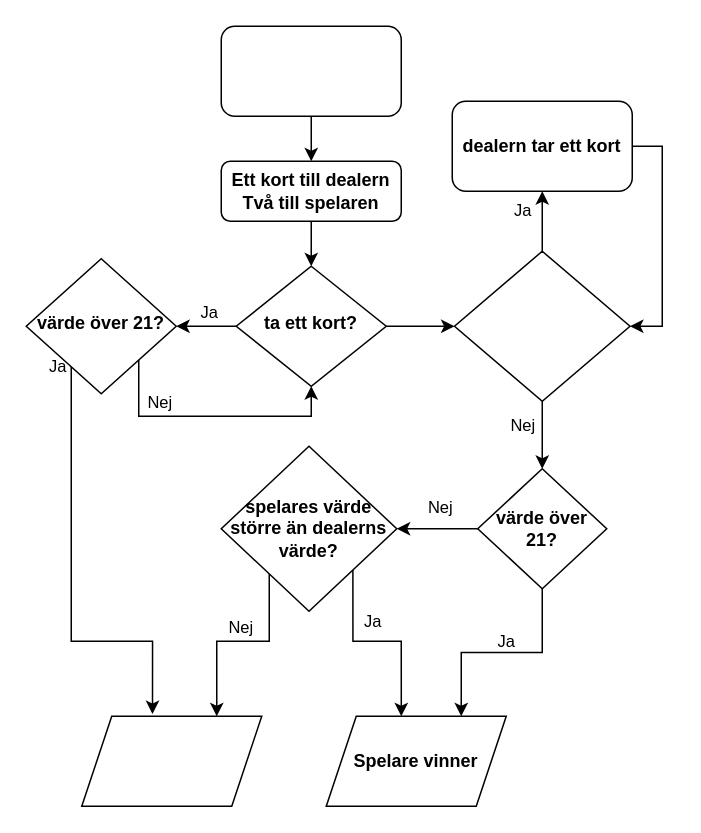
The diagram is 701 pixels wide and 833 high, and some of its shapes have lost their labels. The centre of each missing label's shape, as x and y in pixels:
Dealer vinner: the point at 171,760
dealerns värde mindre än 17?: the point at 541,325
Startsida: the point at 310,70
